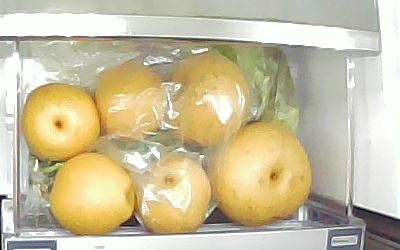pear: (212, 121, 313, 228), (51, 153, 136, 235), (22, 83, 100, 164)
pear_vinyl: (162, 50, 250, 153), (131, 151, 213, 235), (93, 63, 165, 142)
